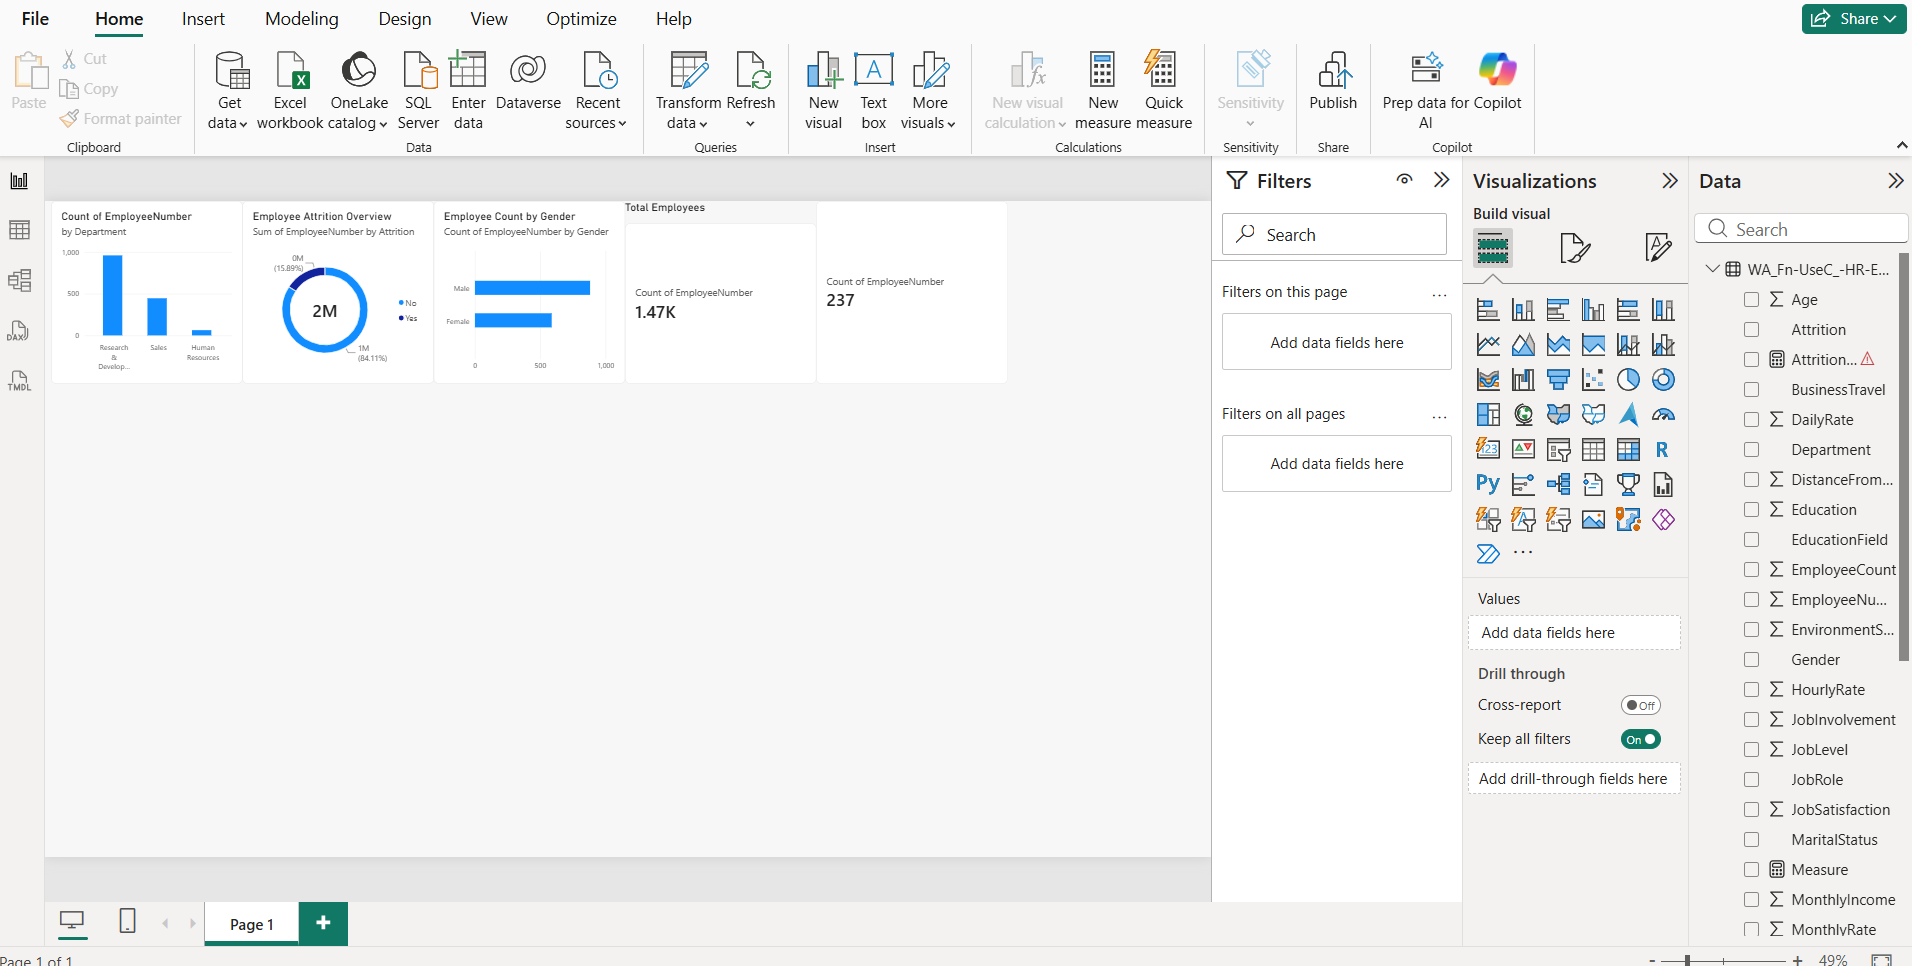

Layout of this report page (visuals, bound fields, positions):
{"tool":"powerbi","page":{"name":"Page 1","canvas":[1920,1080],"ordinal":0},"visuals":[{"type":"clusteredColumnChart","fields":{"Category":["WA_Fn-UseC_-HR-Employee-Attrition.Department"],"Y":["CountNonNull(WA_Fn-UseC_-HR-Employee-Attrition.EmployeeNumber)"]},"box":[10.3,0,314.9,300.5],"z":0},{"type":"donutChart","title":"Employee Attrition Overview","fields":{"Category":["WA_Fn-UseC_-HR-Employee-Attrition.Attrition"],"Y":["Sum(WA_Fn-UseC_-HR-Employee-Attrition.EmployeeNumber)"]},"box":[325.2,0,315,301],"z":1},{"type":"clusteredBarChart","title":"Employee Count by Gender","fields":{"Category":["WA_Fn-UseC_-HR-Employee-Attrition.Gender"],"Y":["CountNonNull(WA_Fn-UseC_-HR-Employee-Attrition.EmployeeNumber)"]},"box":[640.1,0,315,301],"z":2},{"type":"cardVisual","title":"Total Employees","fields":{"Data":["CountNonNull(WA_Fn-UseC_-HR-Employee-Attrition.EmployeeNumber)"]},"box":[955.1,0,315,301],"z":3},{"type":"cardVisual","fields":{"Data":["CountNonNull(WA_Fn-UseC_-HR-Employee-Attrition.EmployeeNumber)"]},"box":[1270,0,315,301],"z":4}]}

Visuals, with their boxes on the page's 1920x1080 design canvas (x1, y1, x2, y2). These are canvas units, not pixel positions in the 1912x966 screenshot, which may show the page scaled, cropped or inside an application window:
clusteredColumnChart - WA_Fn-UseC_-HR-Employee-Attrition.Department x CountNonNull(WA_Fn-UseC_-HR-Employee-Attrition.EmployeeNumber): box(10, 0, 325, 300)
"Employee Attrition Overview" donutChart: box(325, 0, 640, 301)
"Employee Count by Gender" clusteredBarChart: box(640, 0, 955, 301)
"Total Employees" cardVisual: box(955, 0, 1270, 301)
cardVisual - CountNonNull(WA_Fn-UseC_-HR-Employee-Attrition.EmployeeNumber): box(1270, 0, 1585, 301)
